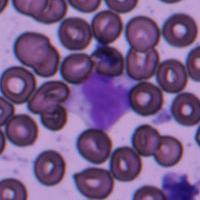M: (68, 71, 130, 132)
